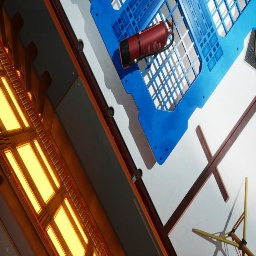FireExtinguisher ]: (119, 16, 174, 69)
